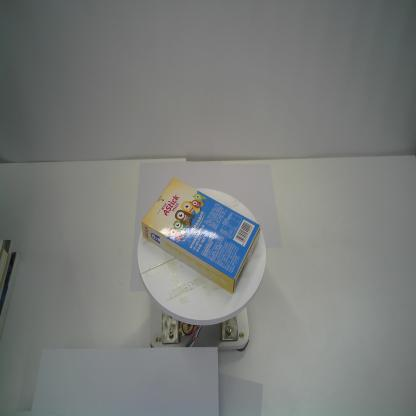Dessert: (139, 174, 262, 296)
